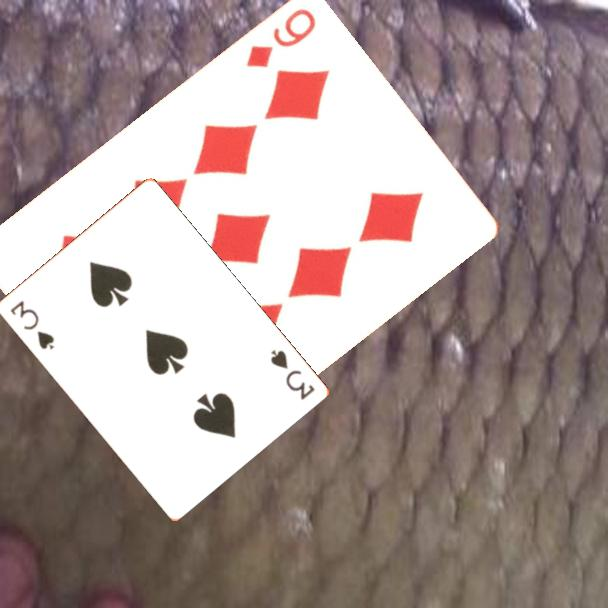d09: (243, 4, 319, 70)
s03: (266, 346, 318, 403), (6, 296, 57, 352)
